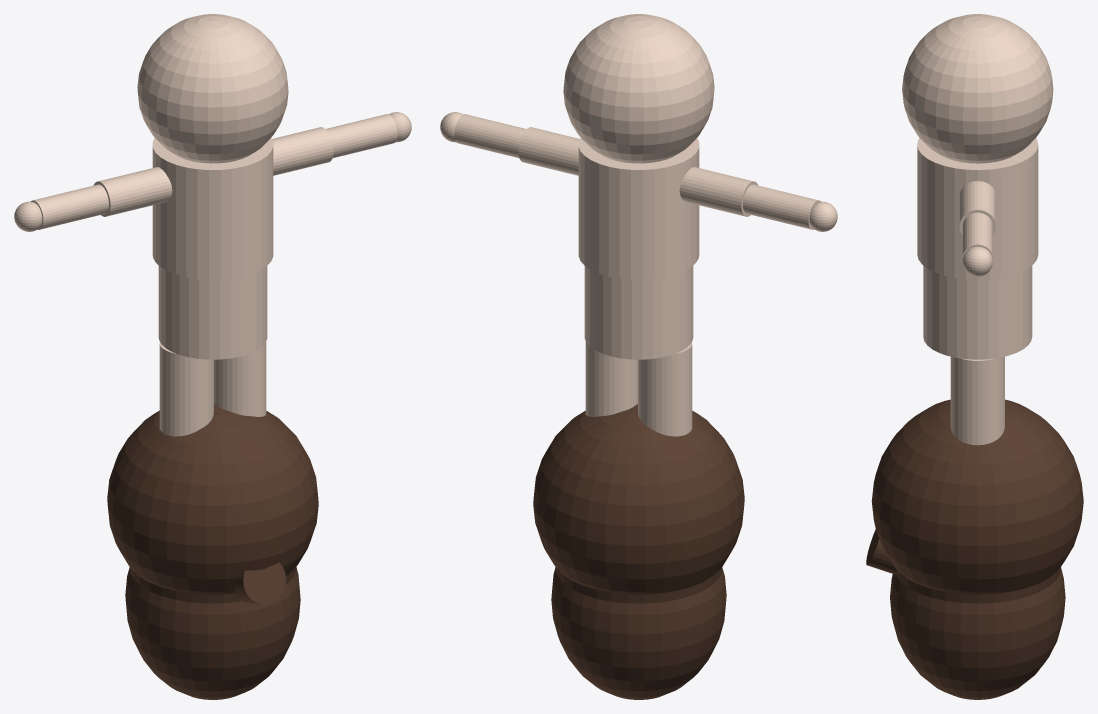
File: character_base.glb
3 renders of one model, left to right at view 1: azimuth 30°, elevation 25°; view 2: azimuth 150°, elevation 25°; view 3: azimuth 270°, elevation 25°, orthographic.
Parts seen in each view (by area): view 1: character_base_body, hair_style5, hair_style3, hair_style4, hair_style2; view 2: character_base_body, hair_style5, hair_style3, hair_style2; view 3: character_base_body, hair_style5, hair_style3, hair_style2, hair_style4.
Part boxes in pixels (x1,y1,x2,y2): character_base_body: (14, 14, 411, 436); hair_style5: (107, 404, 318, 594); hair_style3: (125, 568, 300, 699); hair_style4: (234, 562, 285, 604); hair_style2: (129, 566, 296, 603); character_base_body: (440, 14, 837, 436); hair_style5: (533, 404, 744, 594); hair_style3: (551, 568, 726, 699); hair_style2: (555, 566, 722, 603); character_base_body: (902, 14, 1053, 445); hair_style5: (871, 399, 1083, 594); hair_style3: (890, 568, 1065, 699); hair_style2: (896, 566, 1061, 603); hair_style4: (866, 529, 896, 574).
Bounding box in the file's own units: 1.5 × 2.45 × 0.7183.
